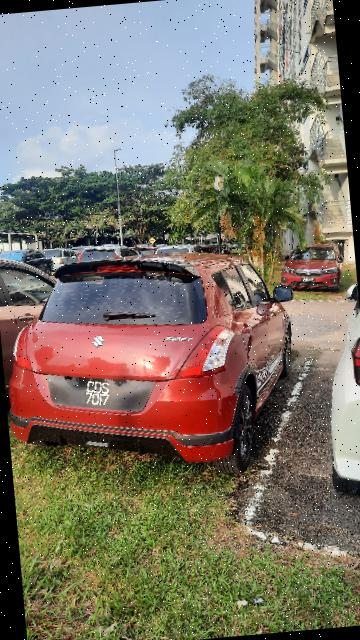License_Plate: (45, 367, 162, 424), (299, 274, 322, 287)
car: (1, 241, 310, 504), (274, 233, 346, 303)
